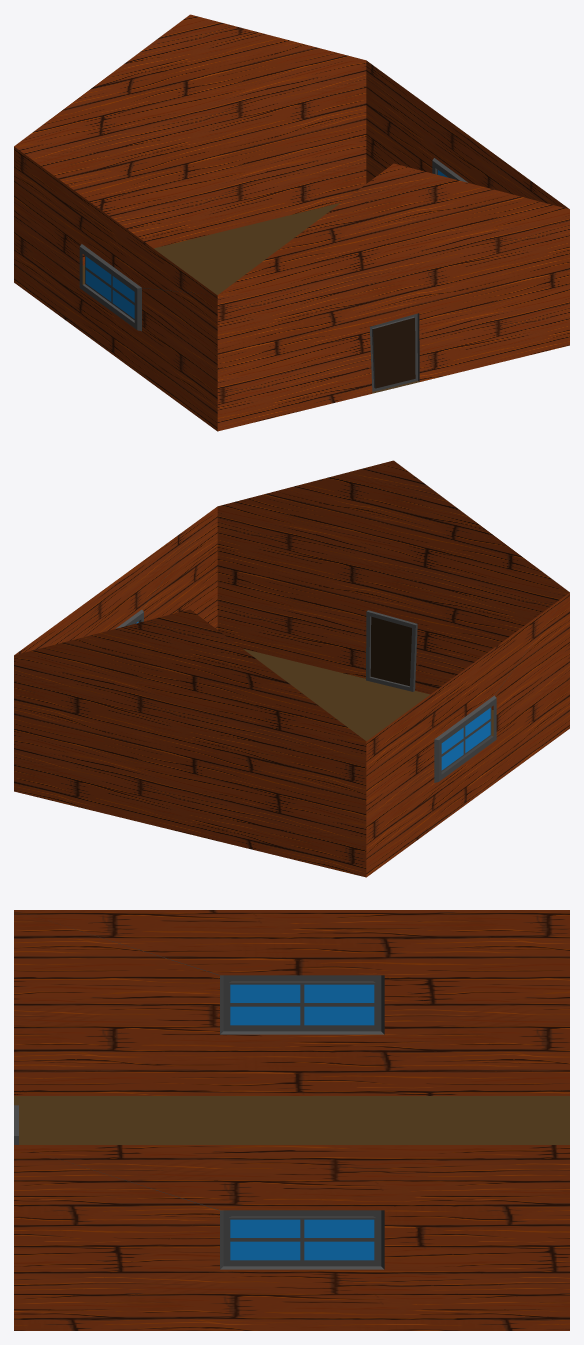
File: insideHouse2.glb
3 views of the same model, one above another, from view 1: azimuth 30°, elevation 25°; view 2: azimuth 150°, elevation 25°; view 3: azimuth 270°, elevation 25° (orthographic). The views are drawn at different scales.
Visible parts, largest first — view 1: Cube; view 2: Cube; view 3: Cube.
Part boxes in pixels (x1=…): Cube: x1=14, y1=14, x2=569, y2=431; Cube: x1=14, y1=460, x2=569, y2=877; Cube: x1=14, y1=910, x2=569, y2=1330.
Size of the model in its own units: 20.19 by 12.2 by 20.
Materials: 2 (2 with a texture image).
